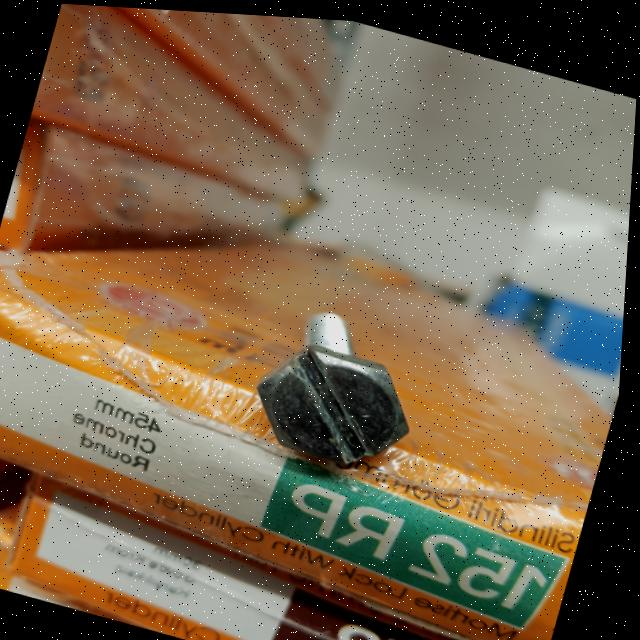Slotted: (240, 331, 427, 487)
